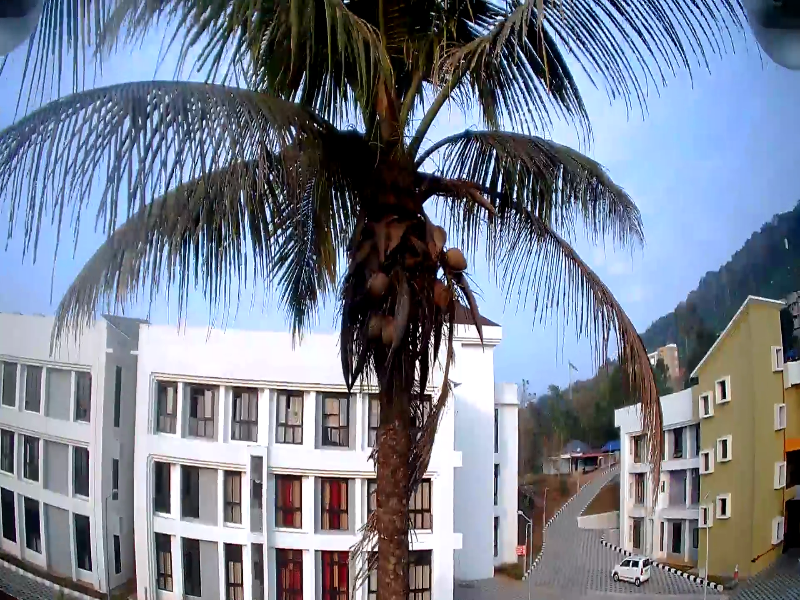coconut: (361, 276, 393, 299), (440, 247, 468, 273), (381, 308, 395, 350), (361, 311, 380, 341), (431, 283, 446, 311)
